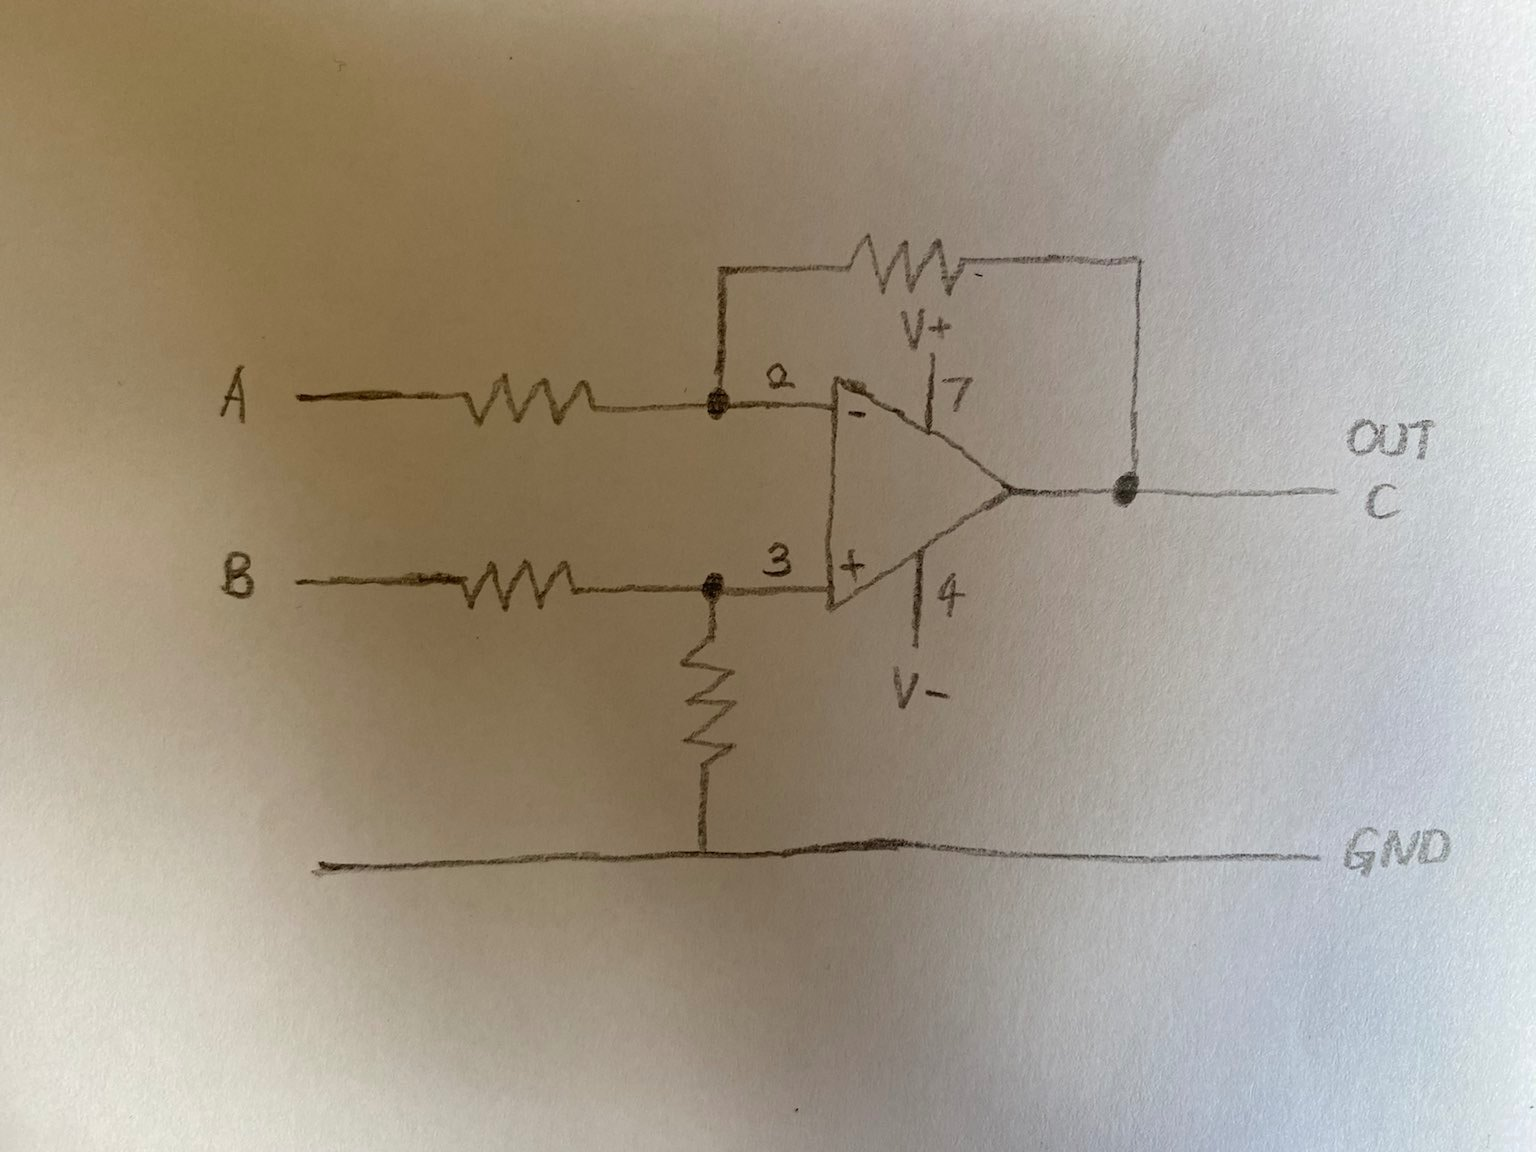junction: (1101, 456, 1159, 527), (687, 373, 739, 431), (681, 560, 736, 613), (701, 245, 755, 298), (677, 826, 727, 879), (1113, 239, 1154, 290)
operational_amplifier: (813, 369, 1024, 622)
resistor: (443, 367, 605, 443), (826, 227, 987, 299), (445, 555, 589, 625), (675, 629, 740, 775)
terminal: (279, 844, 362, 889), (282, 562, 354, 599), (1297, 472, 1356, 511), (278, 380, 341, 415), (1271, 840, 1334, 875)
text: (1340, 818, 1462, 881), (1339, 409, 1438, 467), (211, 543, 261, 609), (217, 359, 256, 427), (1360, 476, 1413, 526), (885, 660, 922, 715), (758, 537, 803, 579), (937, 371, 980, 413), (896, 302, 929, 353), (934, 572, 969, 620), (758, 356, 797, 395), (921, 677, 953, 717), (837, 545, 869, 581), (930, 310, 956, 341), (845, 400, 870, 431)
